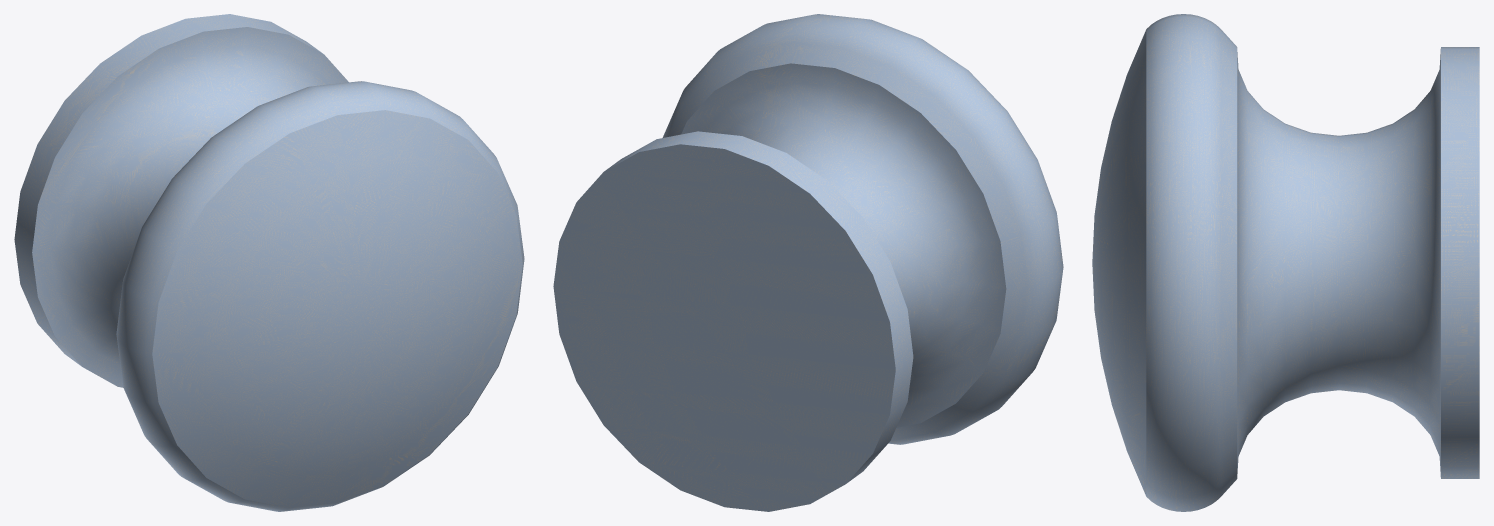
File: original-9.obj
The picture shows the model from 3 angles, left to right: view 1: azimuth 30°, elevation 25°; view 2: azimuth 150°, elevation 25°; view 3: azimuth 270°, elevation 25°; orthographic projection. The views are drawn at different scales.
Visible parts, largest first — view 1: knob_2_1/knob_2/mesh12/mesh12-geometry#mesh12-geometry; view 2: knob_2_1/knob_2/mesh12/mesh12-geometry#mesh12-geometry; view 3: knob_2_1/knob_2/mesh12/mesh12-geometry#mesh12-geometry.
Part boxes in pixels (<box>): knob_2_1/knob_2/mesh12/mesh12-geometry#mesh12-geometry: <box>14,14,524,511</box>; knob_2_1/knob_2/mesh12/mesh12-geometry#mesh12-geometry: <box>553,14,1063,511</box>; knob_2_1/knob_2/mesh12/mesh12-geometry#mesh12-geometry: <box>1092,14,1479,511</box>.
Bounding box in the file's own units: 0.0368 × 0.0368 × 0.0285.
